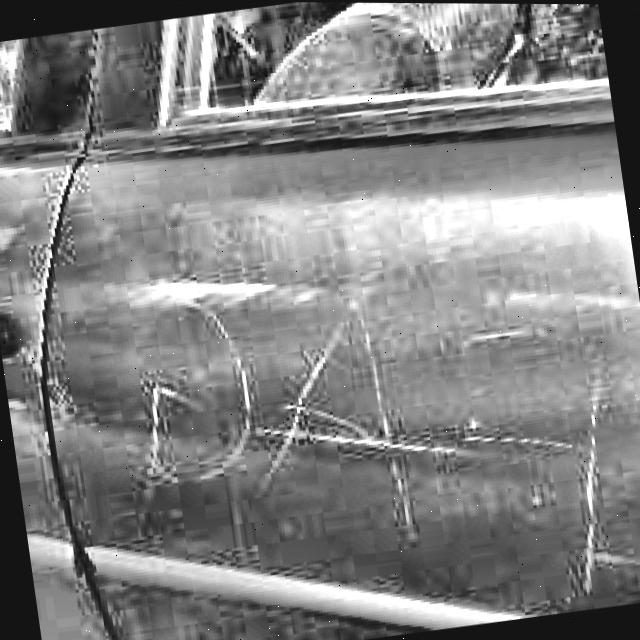door_scratch: (130, 291, 416, 534), (459, 310, 640, 609)
